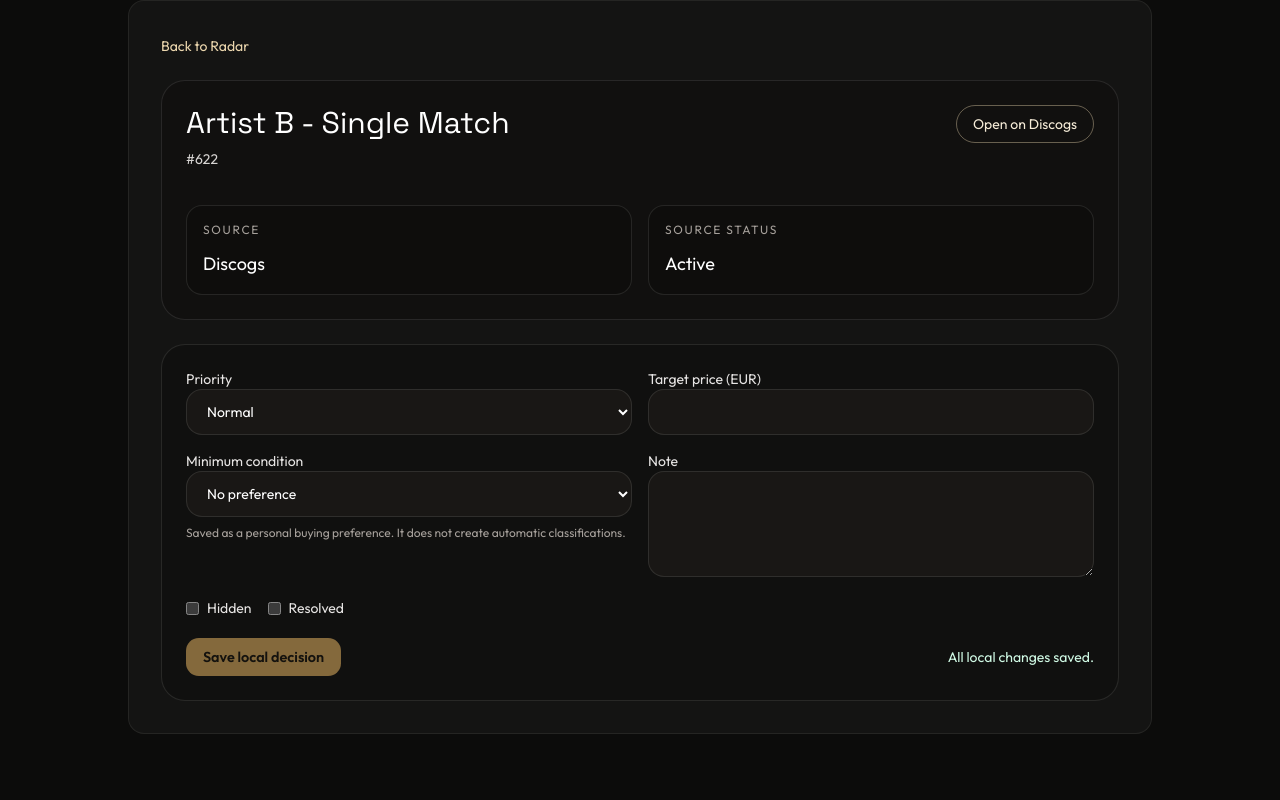
Test case: Radar release detail page › keeps the draft intact after a failed save and allows retrying
In the text box named "radar-note-22": (871, 524) x1=648 y1=471 x2=1094 y2=577, type "Retry this save"
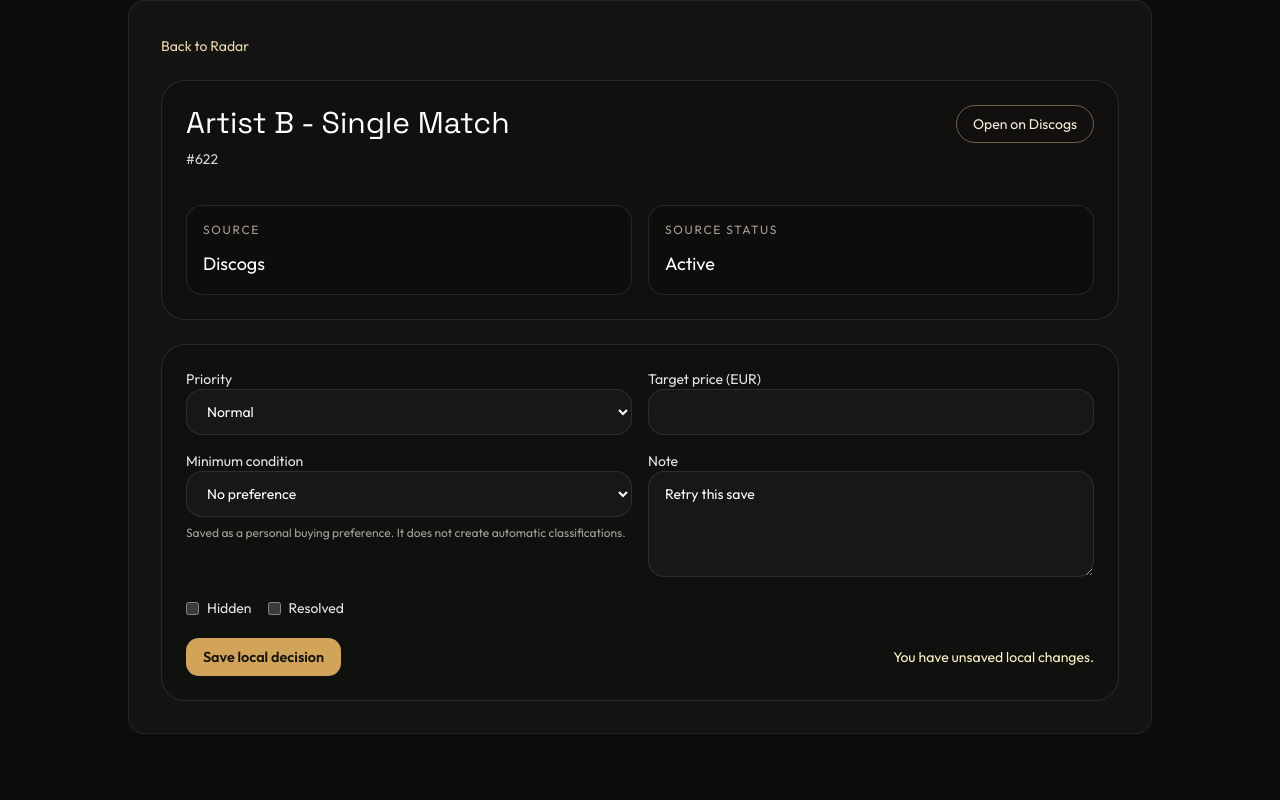
Click the button "Save local decision": (264, 657) x1=186 y1=638 x2=341 y2=676
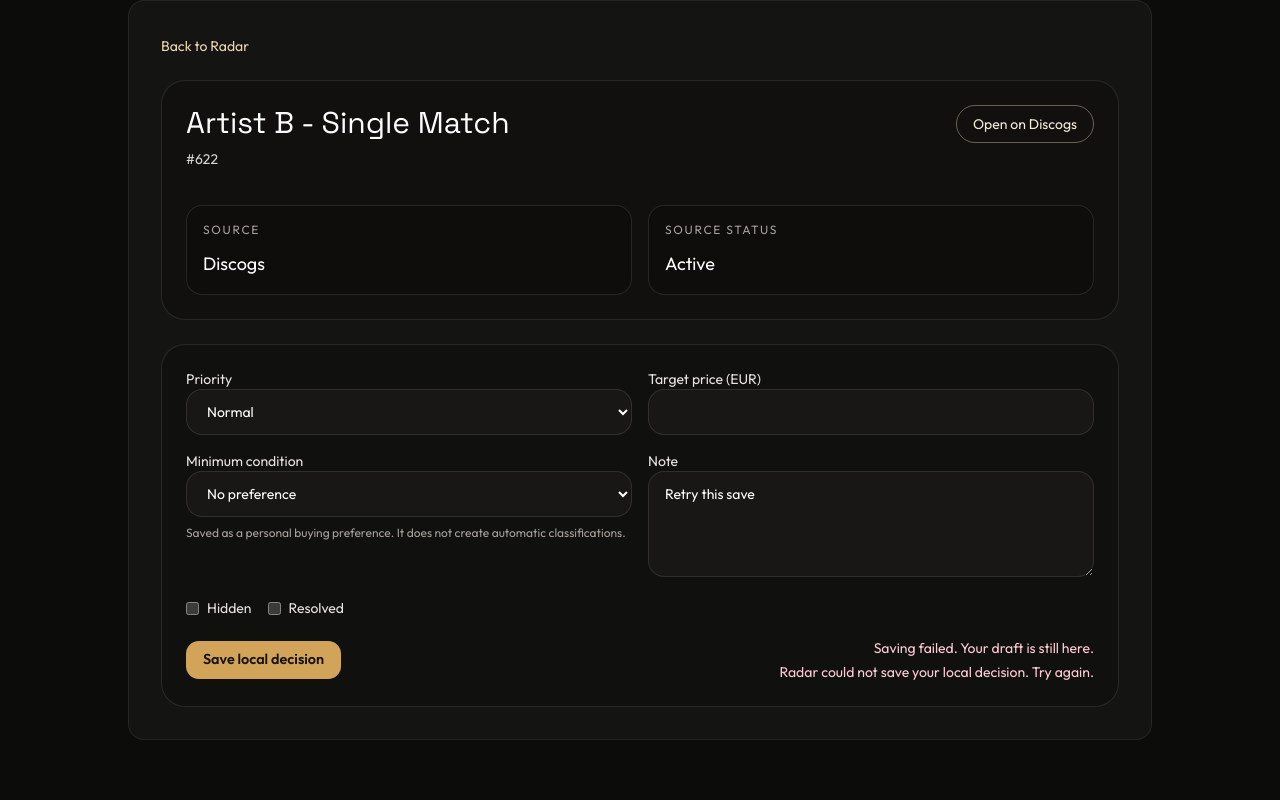
Expected: the button "Save local decision" is enabled
Expected: the text "Saving failed. Your draft is still here." is shown, x1=874 y1=639 x2=1094 y2=657
Expected: the text "Radar could not save your local decision. Try again." is shown, x1=780 y1=662 x2=1094 y2=682
Click the button "Save local decision": (264, 660) x1=186 y1=641 x2=341 y2=679
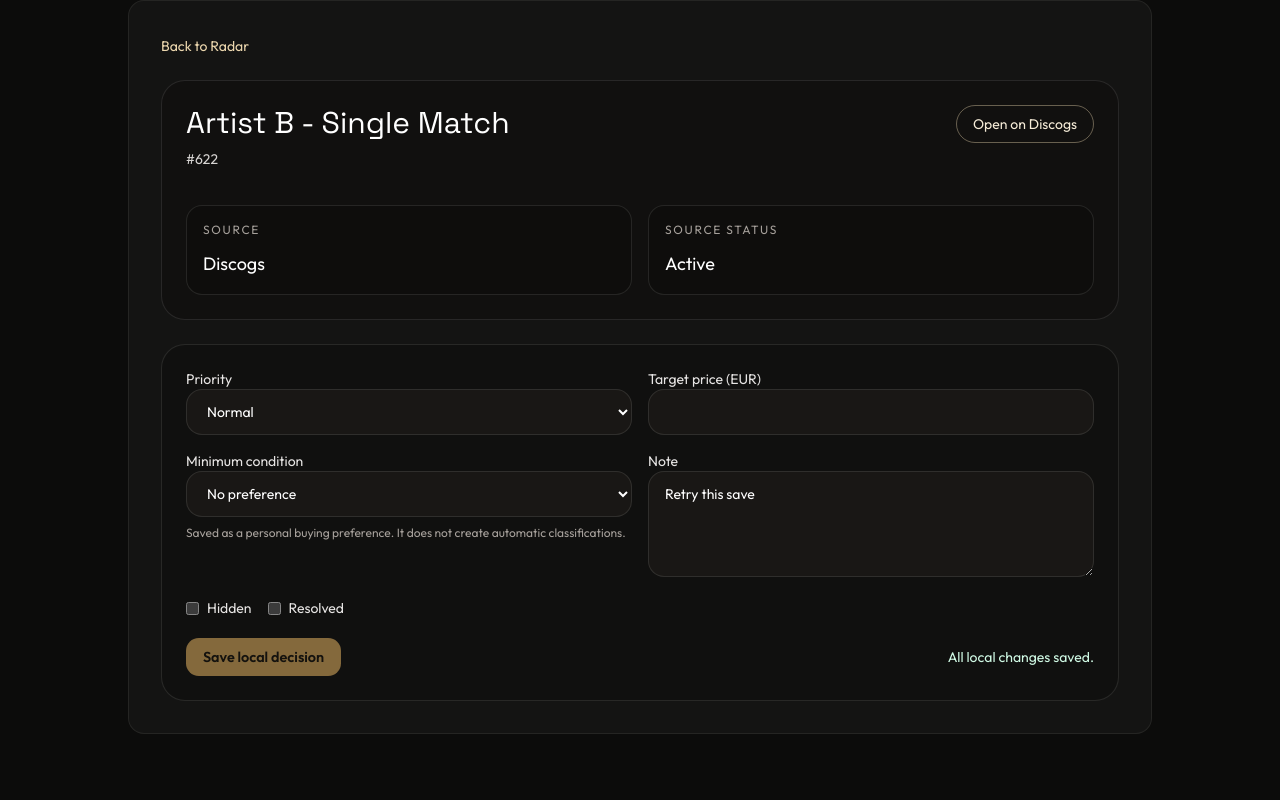
Expected: the text "All local changes saved." is shown, x1=948 y1=647 x2=1094 y2=667
